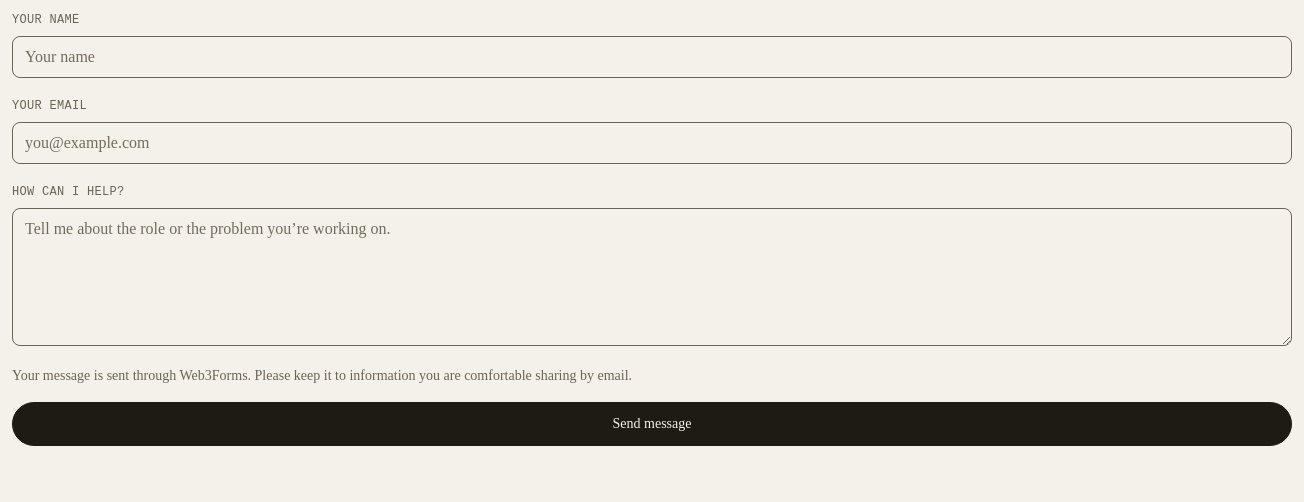
Scenario: contact submissions › retains input after a rejected response: {"ok":true,"success":false}
Type "Test Visitor" into the field labelled "Your name" at (652, 57), box [12,36,1292,78]
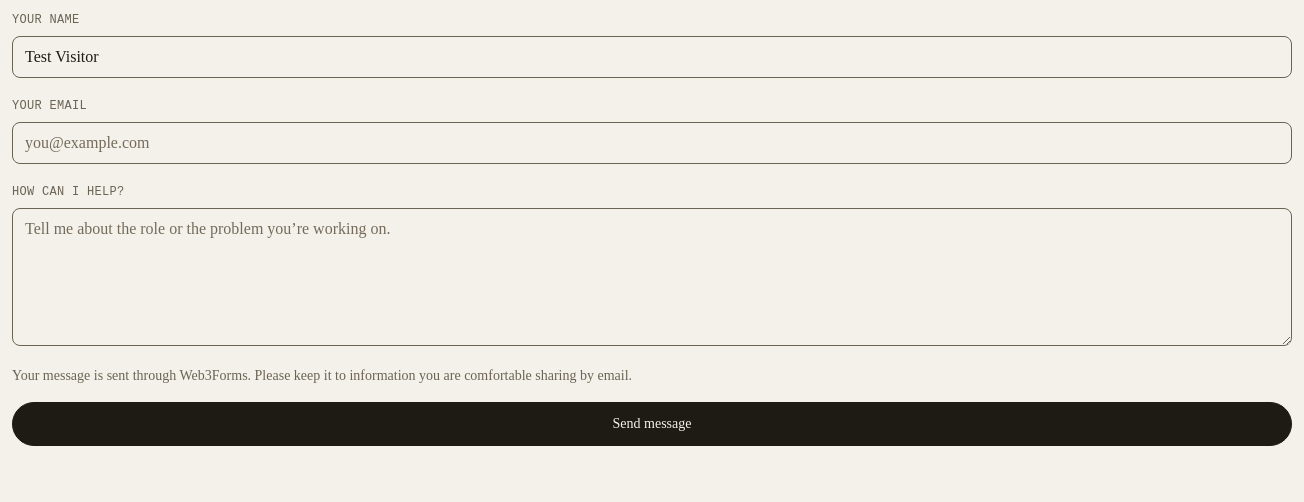
Type "visitor@example.com" into the field labelled "Your email" at (652, 143), box [12,122,1292,164]
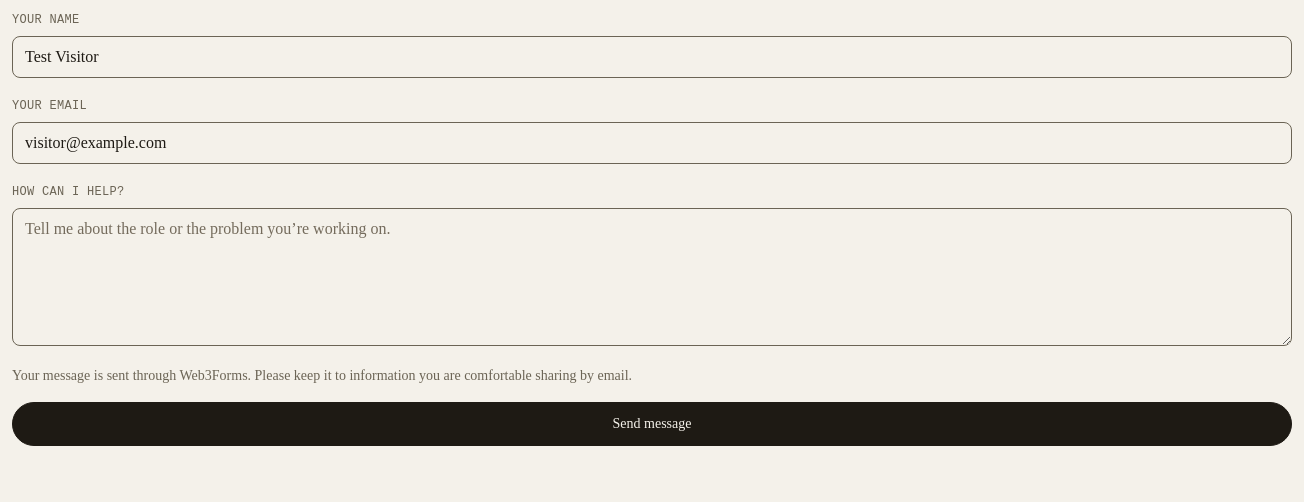
Type "A test inquiry" into the text box labelled "How can I help?" at (652, 277), box [12,208,1292,346]
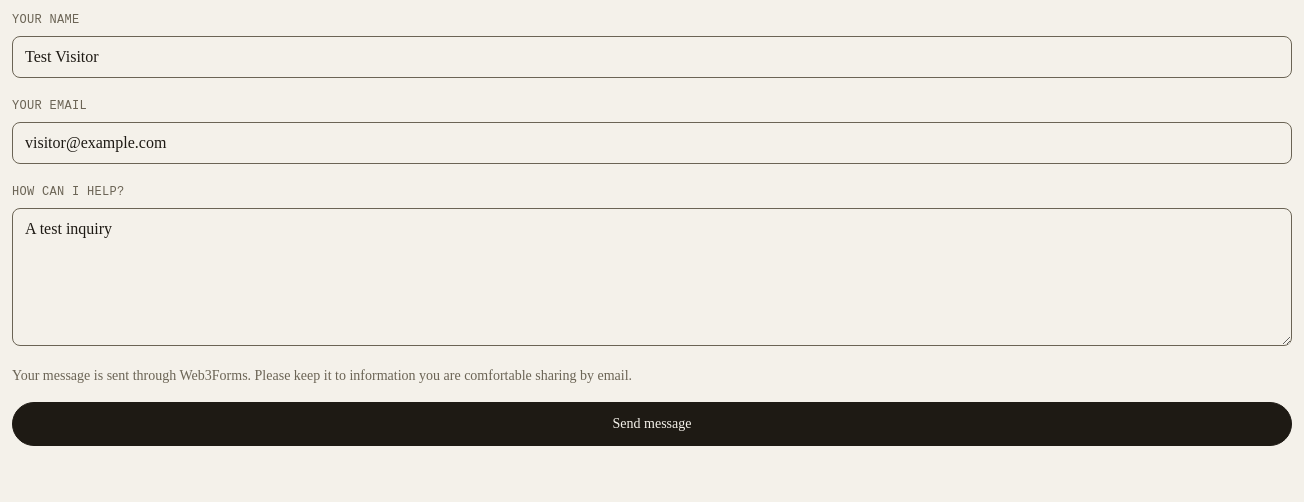
Submit the form named "Send message"
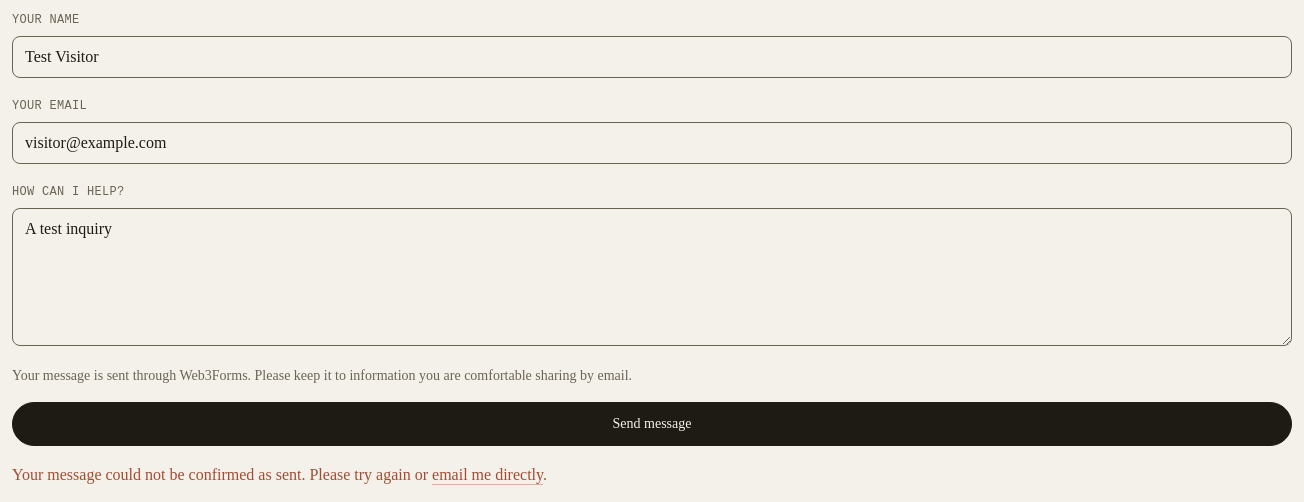
Expected: the button "Send message" is enabled, [12,402,1292,446]
Now the message shows "could not be confirmed", box [12,466,428,483]
